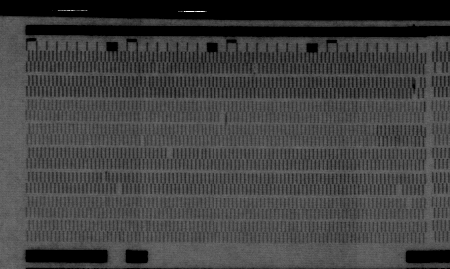Broken hole: (250, 64, 262, 76), (164, 149, 175, 160), (405, 198, 415, 210), (218, 111, 228, 123), (433, 65, 445, 75), (394, 185, 404, 195), (114, 184, 123, 195)
Oblique printing: (409, 78, 422, 102), (98, 171, 111, 184), (138, 135, 149, 148)
